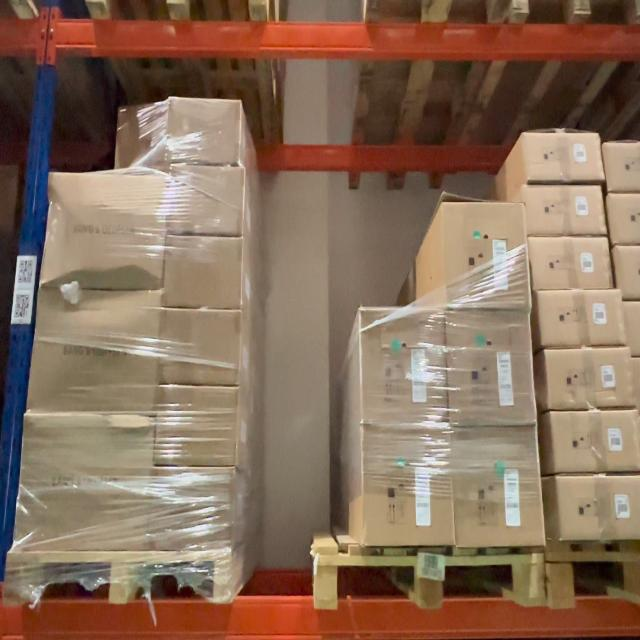box: (28, 421, 148, 547), (40, 291, 155, 412), (49, 171, 160, 280), (362, 432, 453, 548), (363, 310, 444, 426), (450, 314, 530, 420), (459, 434, 536, 540), (448, 203, 528, 305), (160, 312, 237, 382), (160, 394, 236, 460), (152, 476, 230, 540), (167, 243, 238, 304), (171, 99, 238, 162), (171, 171, 240, 230)
